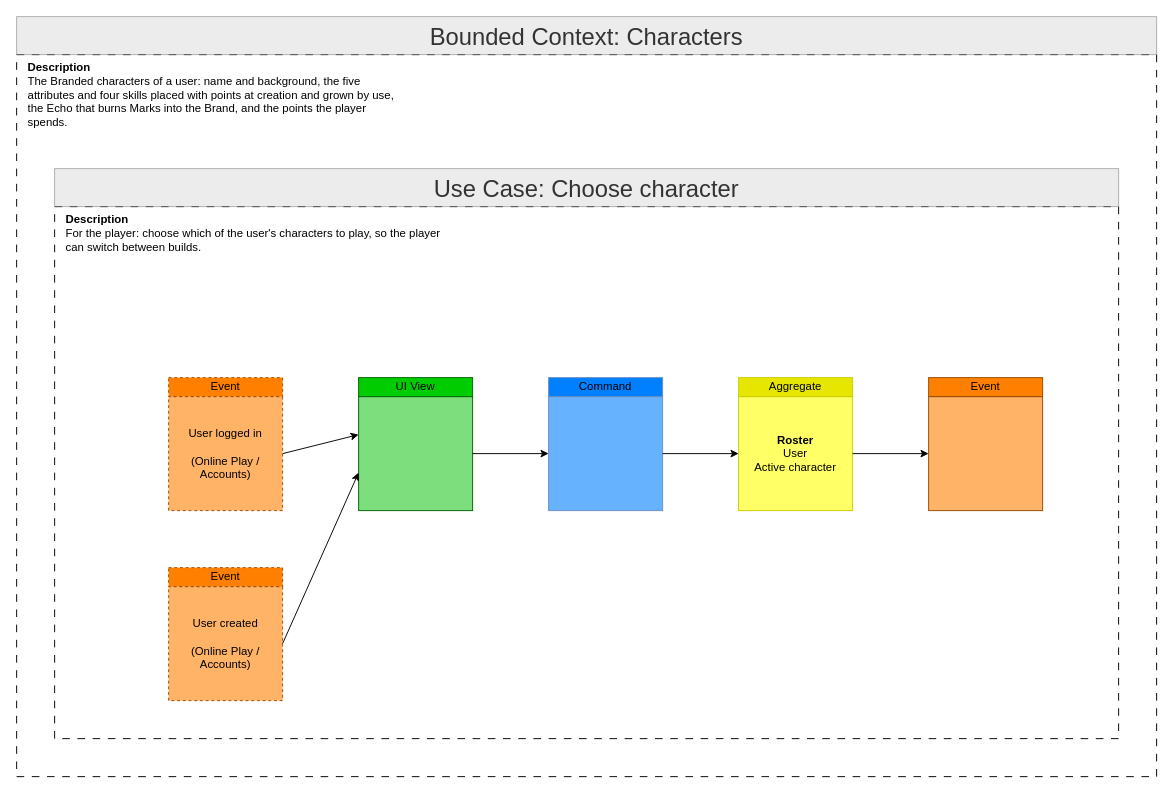
Image size: 1173x793. Some labels were removed from this diagram. The centre of each missing label's shape, as x and y in pixels:
"Character chosen" belongs at (x=985, y=453).
"Characters Player" belongs at (x=415, y=453).
"Choose character Character" belongs at (x=605, y=453).
